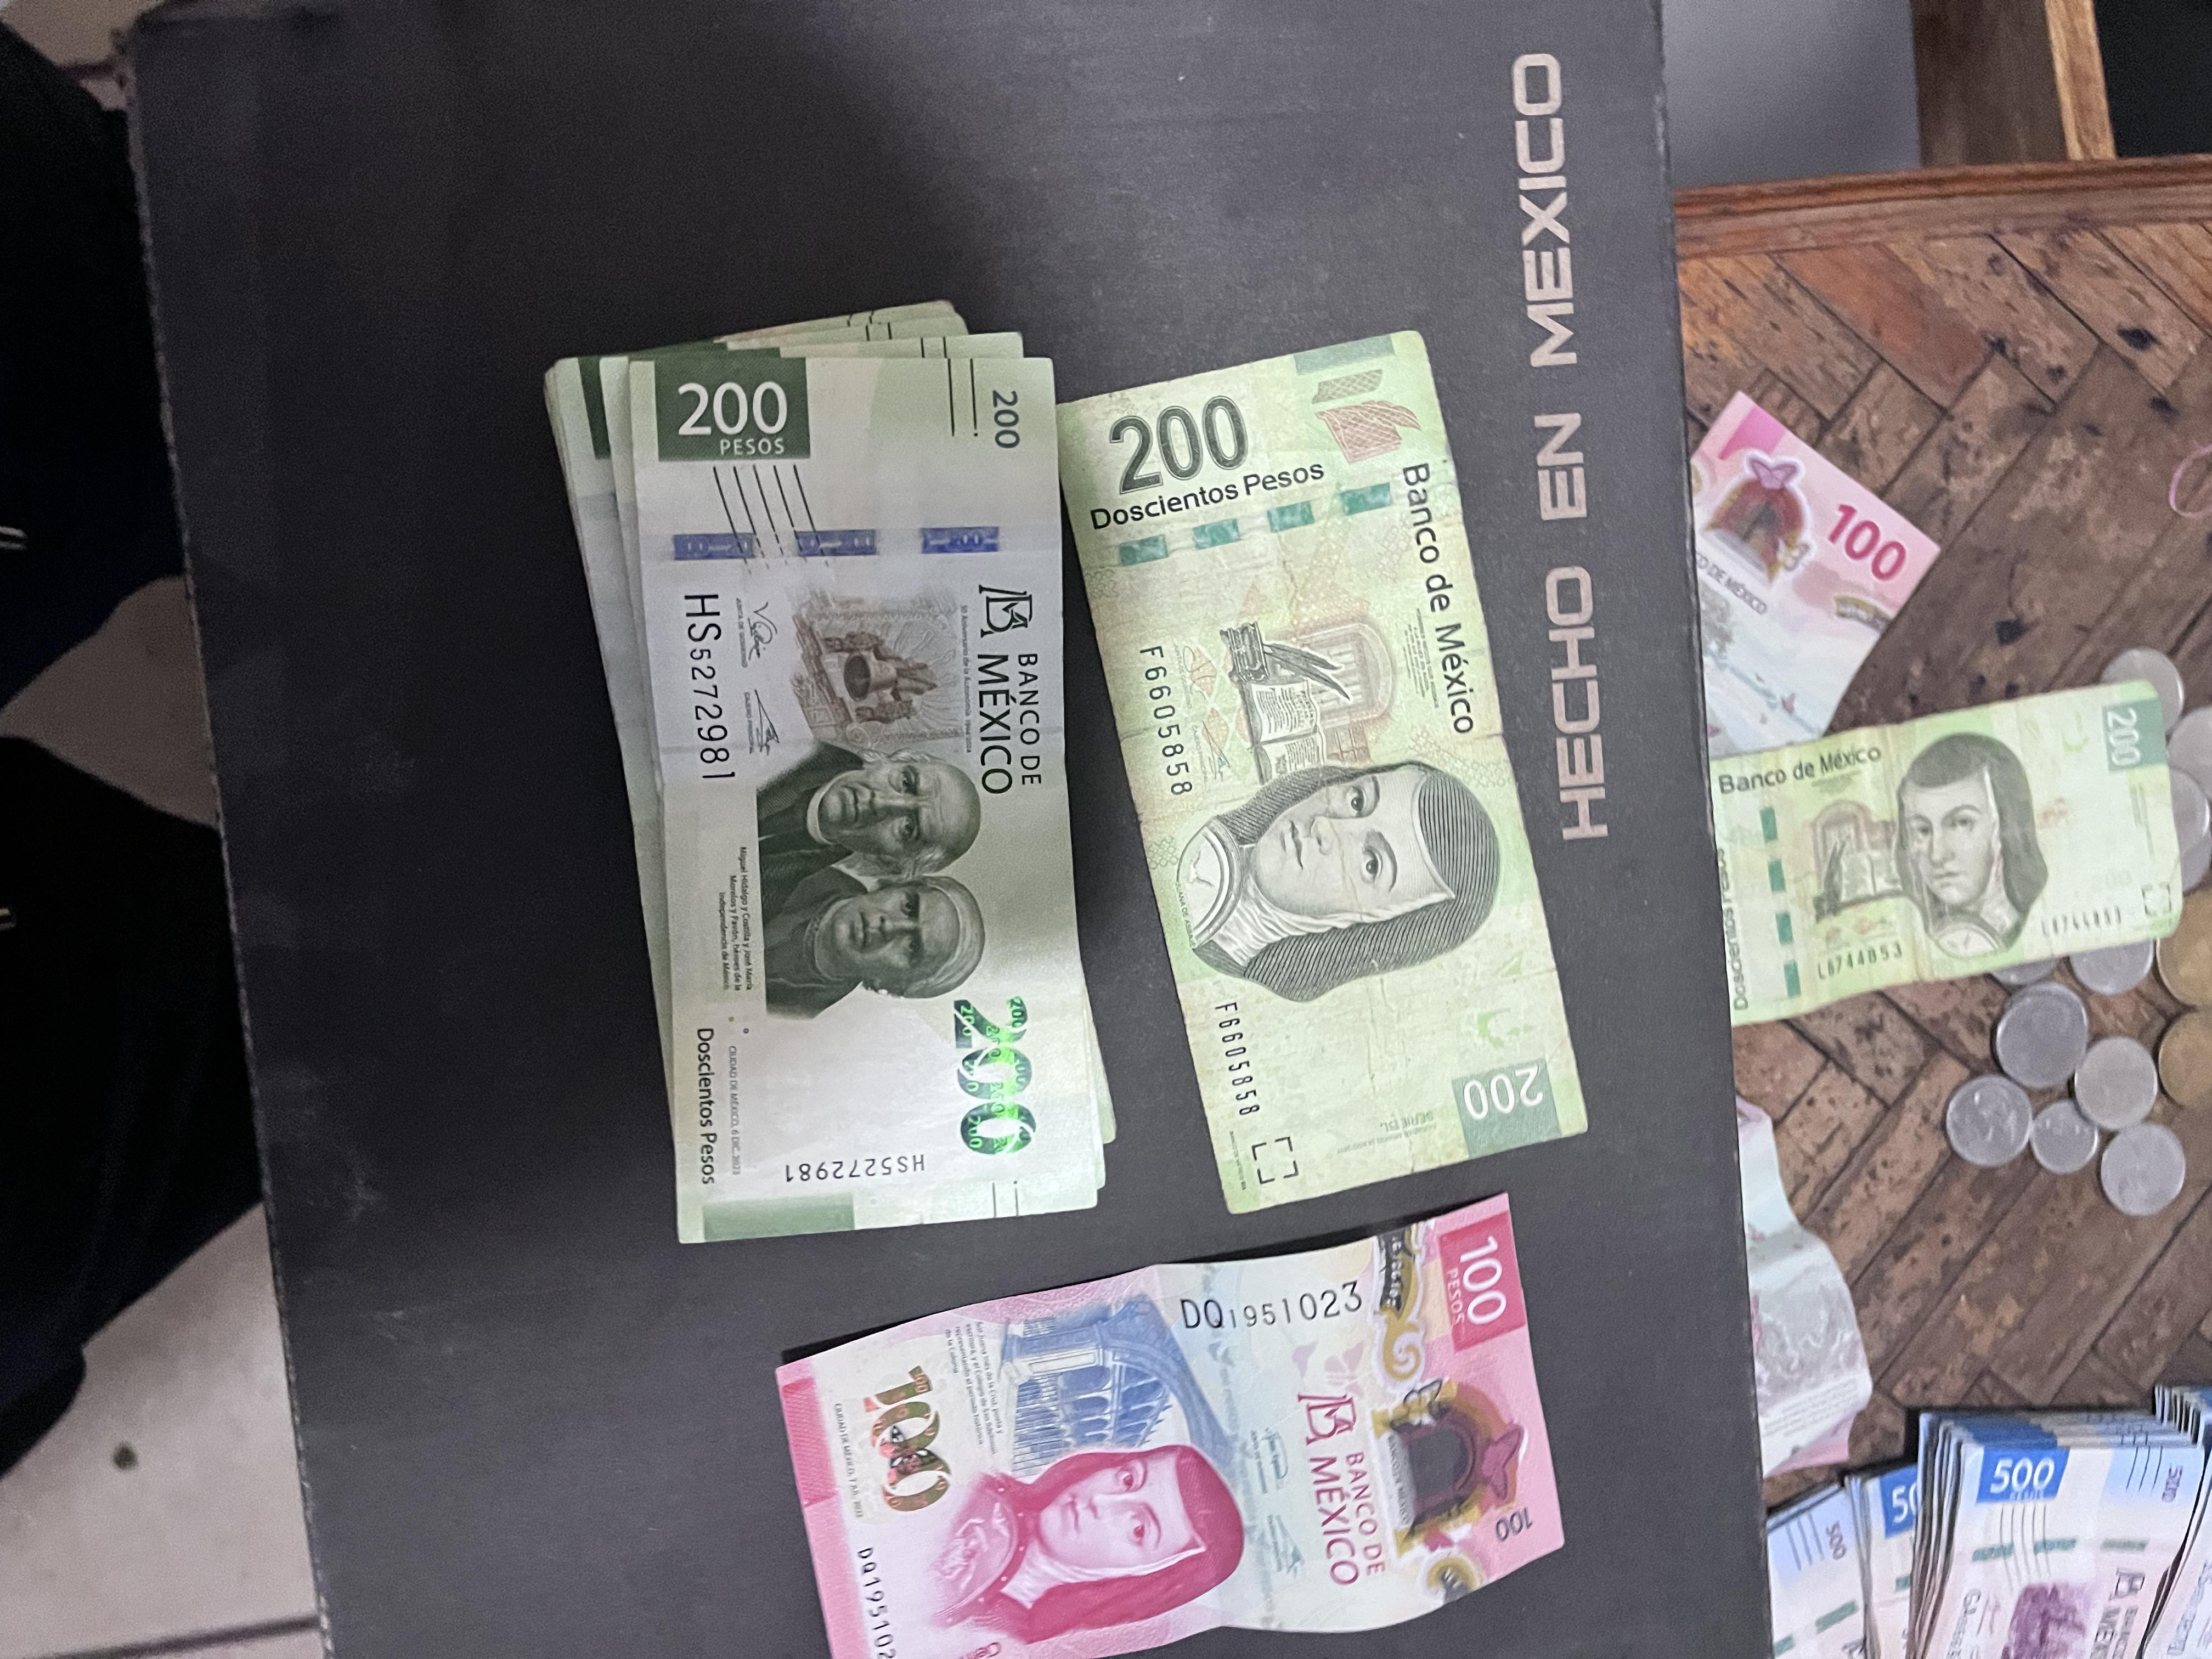100: (712, 1199, 1639, 1659), (1642, 333, 1951, 788)
200: (521, 282, 1169, 1265), (1017, 343, 1655, 1208), (1681, 742, 2212, 1060)
500 nuevo: (1752, 1349, 2212, 1659)
